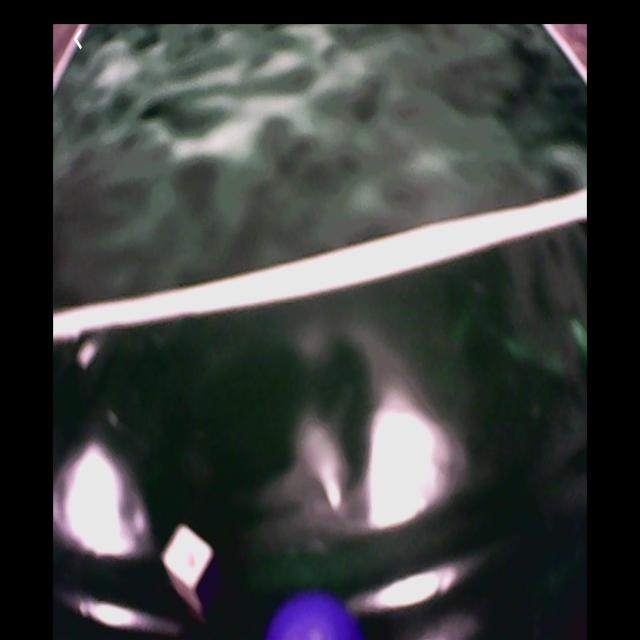ball: (270, 595, 361, 640)
